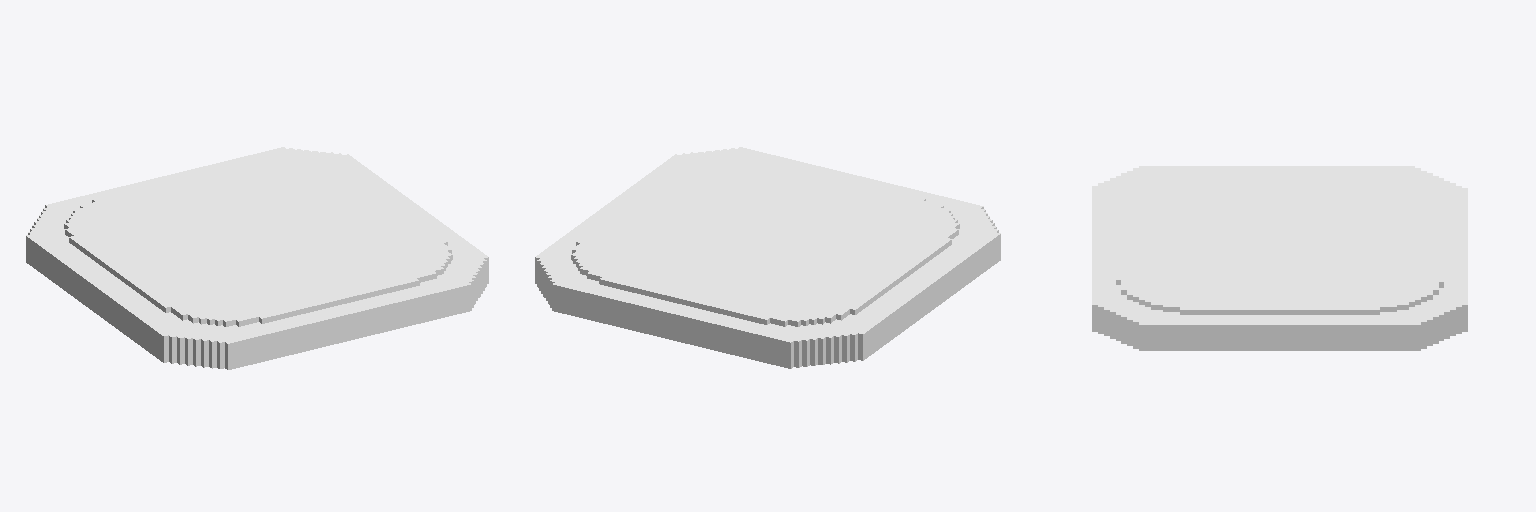
File: button_activated.obj
3 views of the same model, side by side, from view 1: azimuth 30°, elevation 25°; view 2: azimuth 150°, elevation 25°; view 3: azimuth 270°, elevation 25° (orthographic).
Visible parts, largest first — view 1: object 1; view 2: object 1; view 3: object 1.
Boxes of the visible parts, box(x1,y1,x2,y2) form: object 1: box(26, 147, 488, 369); object 1: box(535, 147, 1000, 368); object 1: box(1092, 166, 1467, 350).
Size of the model in its own units: 6.4 by 0.6 by 6.4.